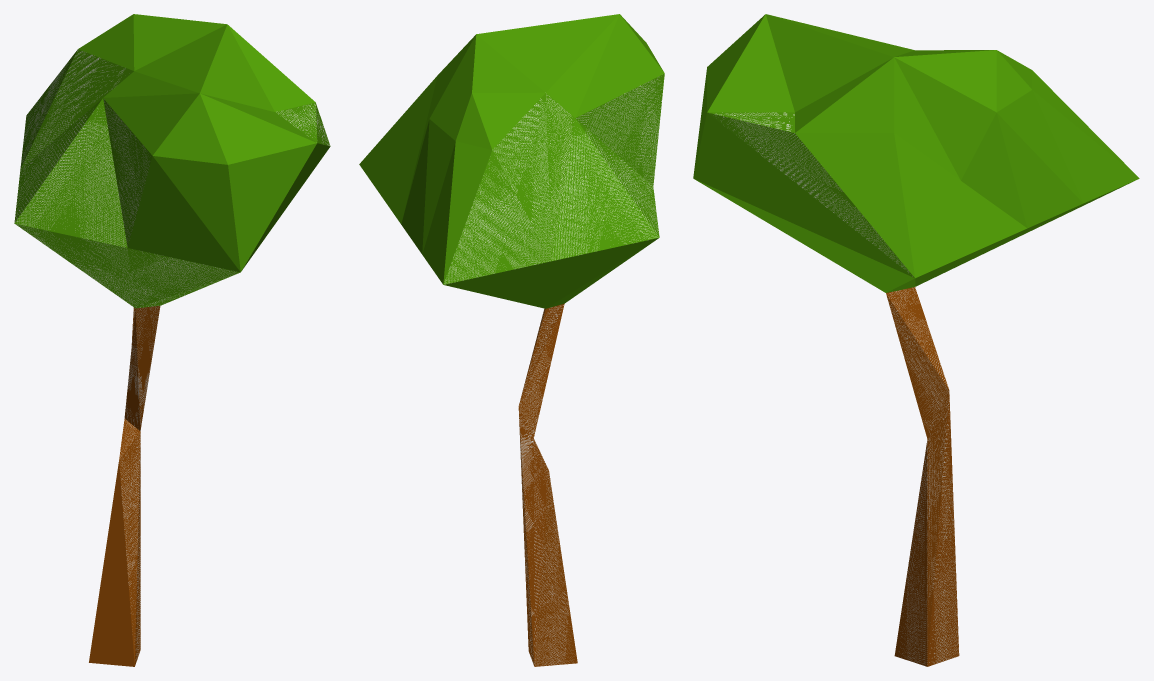
File: tree2.dae
3 views of the same model, side by side, from view 1: azimuth 30°, elevation 25°; view 2: azimuth 150°, elevation 25°; view 3: azimuth 270°, elevation 25° (orthographic). The views are drawn at different scales.
Parts seen in each view (by area): view 1: SketchUp (×2); view 2: SketchUp (×2); view 3: SketchUp (×2).
Boxes of the visible parts, x1=… form: SketchUp (×2): x1=14, y1=14, x2=330, y2=666; SketchUp (×2): x1=359, y1=14, x2=664, y2=666; SketchUp (×2): x1=693, y1=14, x2=1139, y2=666.
Bounding box in the file's own units: 61.31 × 72.03 × 115.
